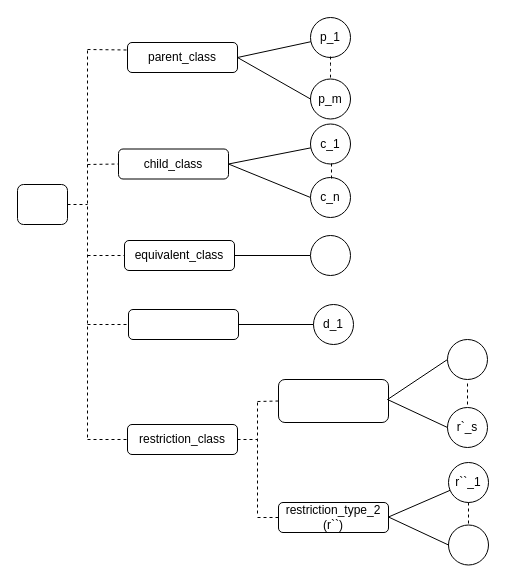
Image size: 506x583. Some labels were removed from this diagram. Here are the shapes that lost their labels. From the top down, the centre of each, then its label:
point 42,204: h1
point 330,255: e_1
point 183,324: disjoint_class
point 467,359: r`_1
point 333,400: restriction_type_1 (r`)
point 468,544: r``_t
